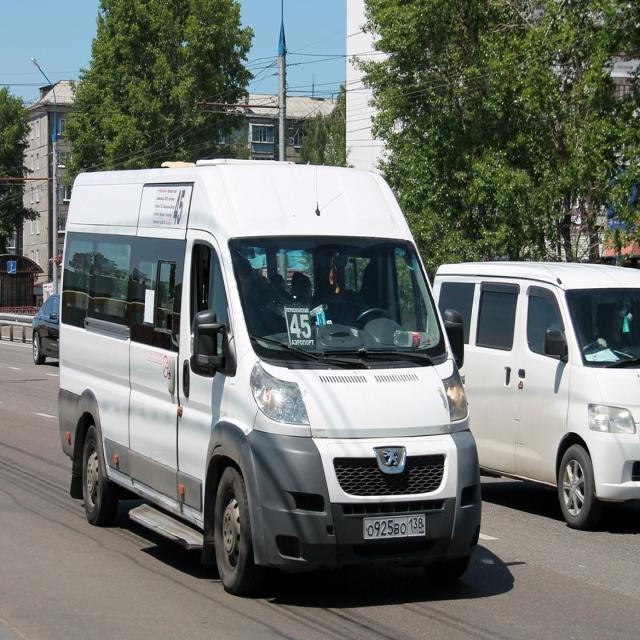number-of-bus: (288, 314, 314, 340), (174, 190, 188, 228)
